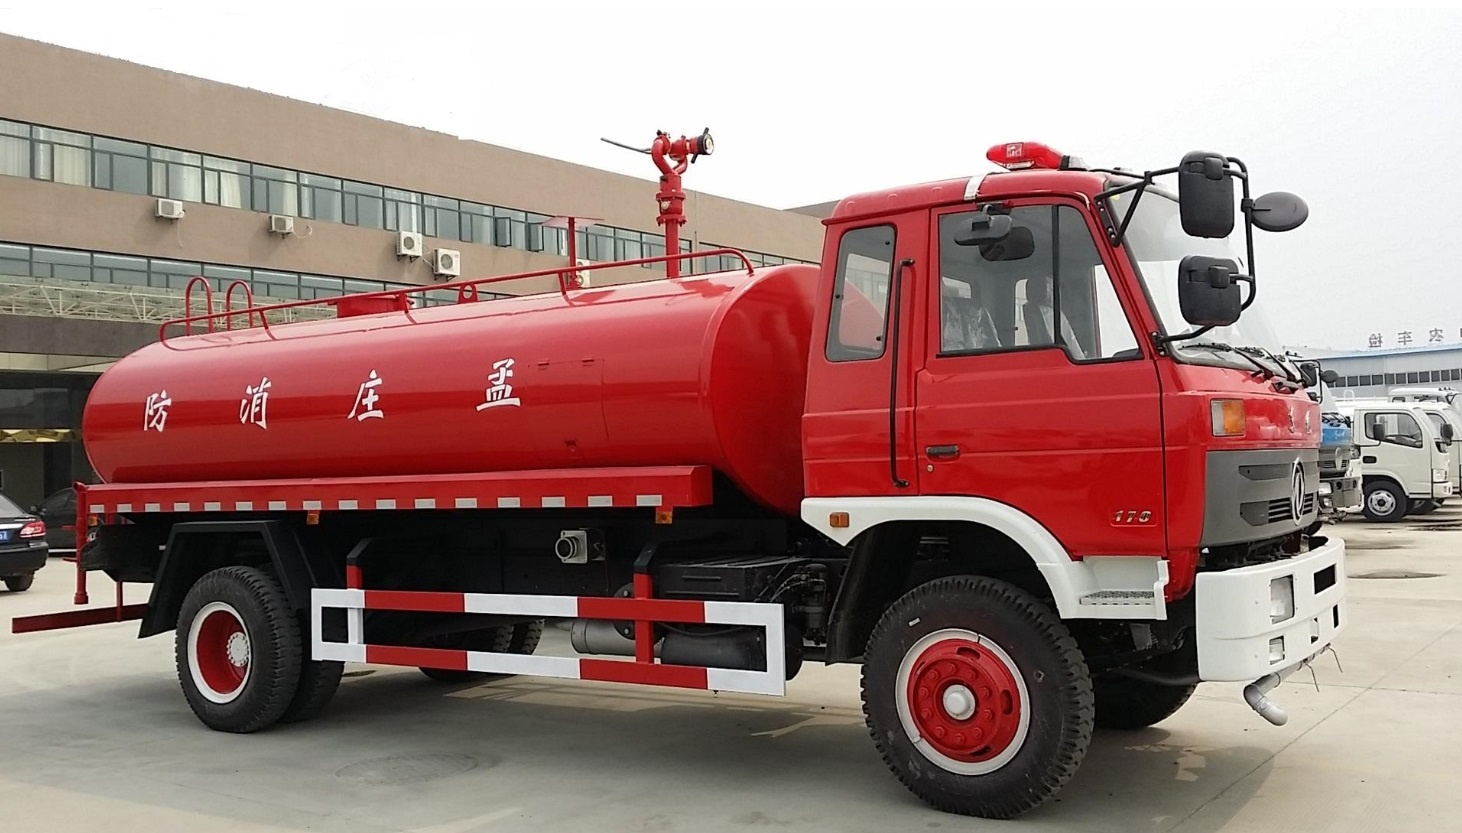fire engine: (85, 174, 1366, 801)
